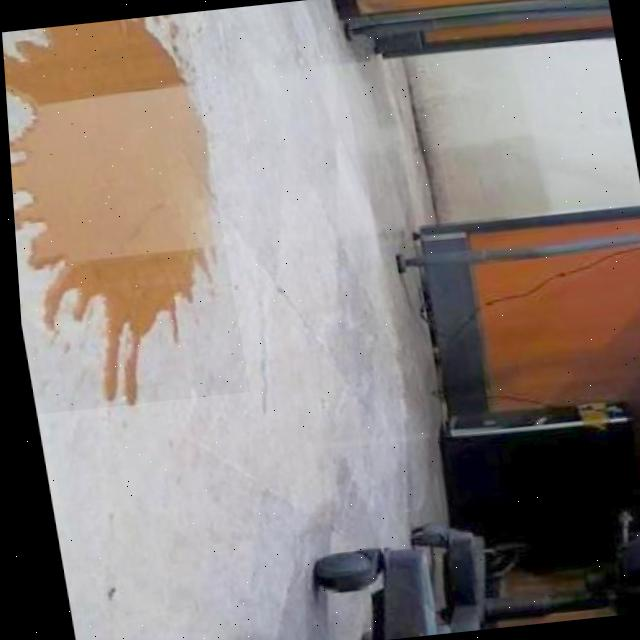spillage: (2, 17, 206, 404)
